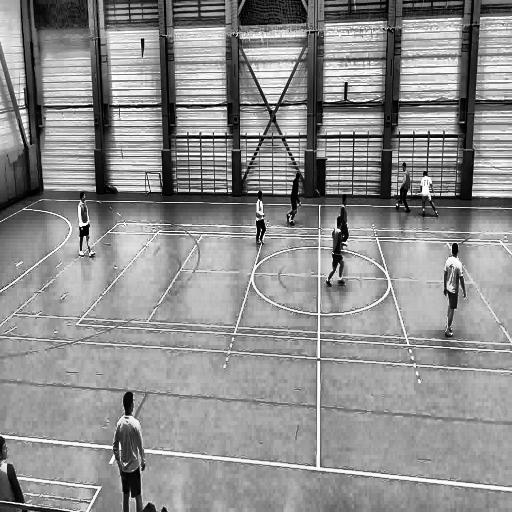ball: (394, 201, 401, 211)
player: (112, 389, 147, 511), (443, 244, 467, 342), (326, 216, 346, 289), (78, 190, 96, 261), (420, 170, 440, 219), (254, 185, 269, 249), (286, 170, 302, 229), (399, 162, 412, 217), (338, 193, 350, 251)
